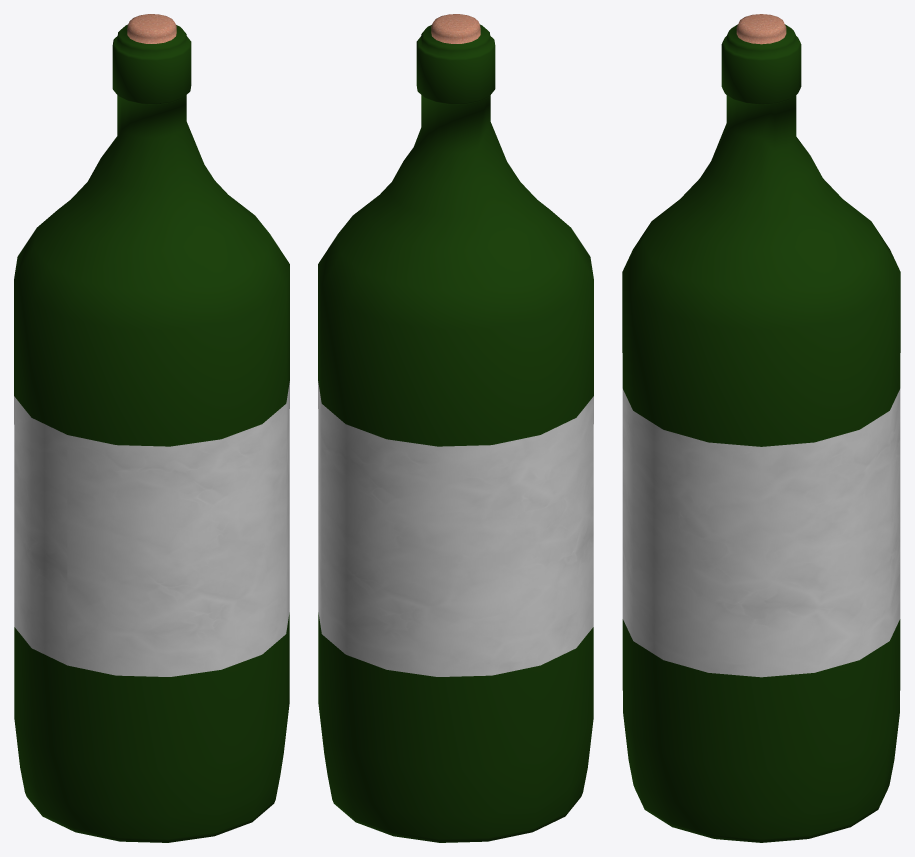
The model's file is bottle.fbx.
3 views of the same model, side by side, from view 1: azimuth 30°, elevation 25°; view 2: azimuth 150°, elevation 25°; view 3: azimuth 270°, elevation 25° (orthographic).
Parts seen in each view (by area): view 1: bottle; view 2: bottle; view 3: bottle.
Boxes of the visible parts, left/top/right/bottom form: bottle: left=14, top=14, right=289, bottom=842; bottle: left=318, top=14, right=593, bottom=842; bottle: left=622, top=14, right=900, bottom=842.
Bounding box in the file's own units: 8 × 24.4 × 8.
